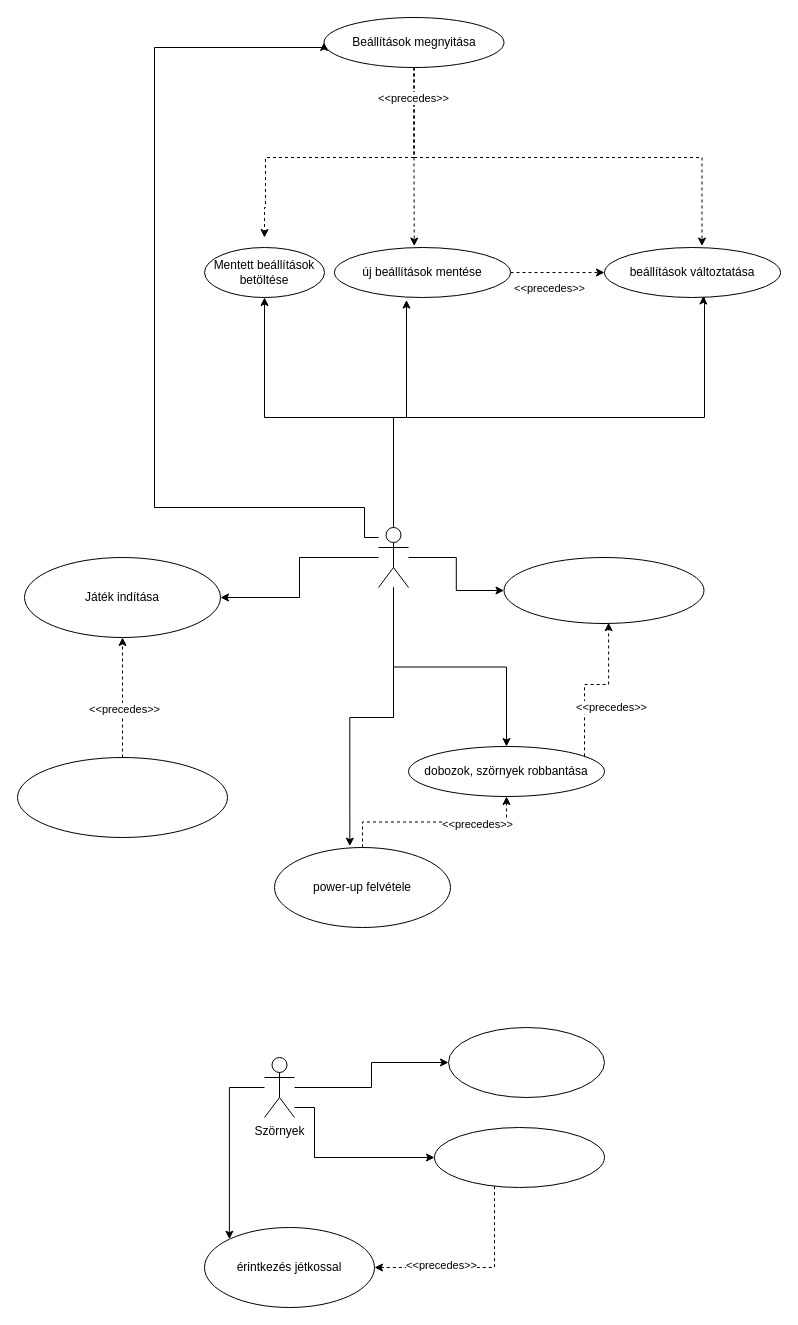
The diagram is 798 pixels wide and 1325 high, and some of its shapes have lost their labels. The shapes that lost their labels are listed below. From the top down, each one's box as (x1, y1, x2, y2) in pixels, then its label:
(378, 526, 408, 588): játékos
(503, 556, 704, 624): mozgás, bomba lehelyezése
(16, 756, 228, 838): Játék mód választása
(448, 1026, 604, 1098): mozgás
(434, 1126, 604, 1188): játékos megölése
